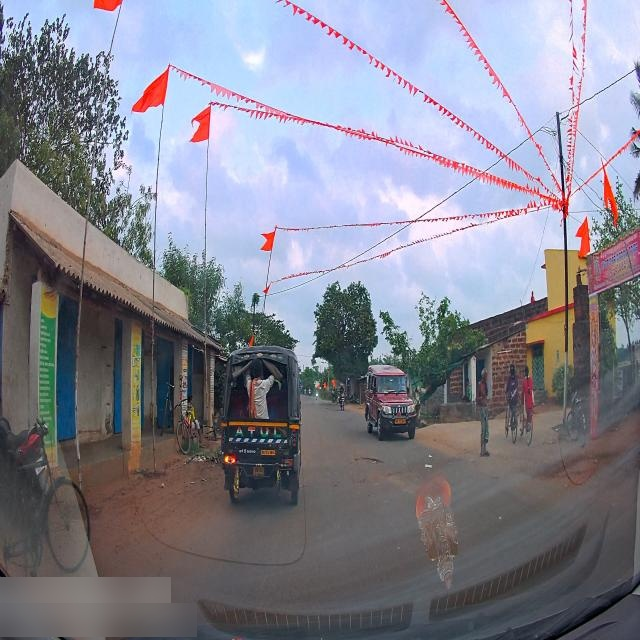pothole: (352, 454, 379, 466)
